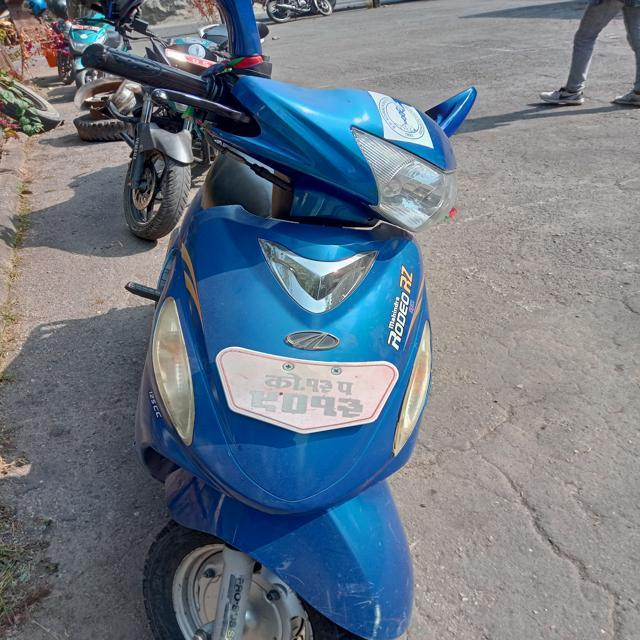license_plate: (202, 315, 412, 455)
